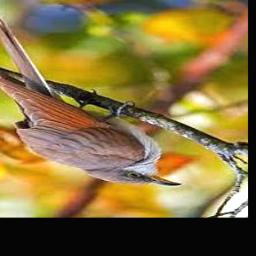Cuckoo: (0, 17, 182, 187)
